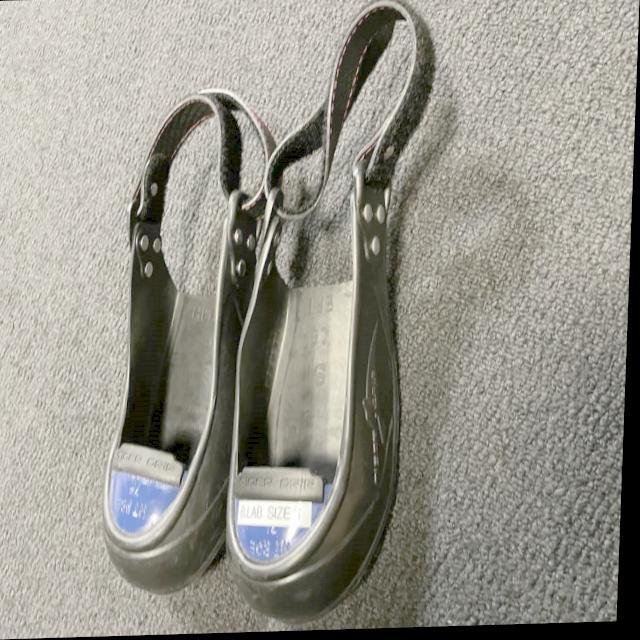shoes: (236, 84, 423, 616), (99, 91, 261, 594)
